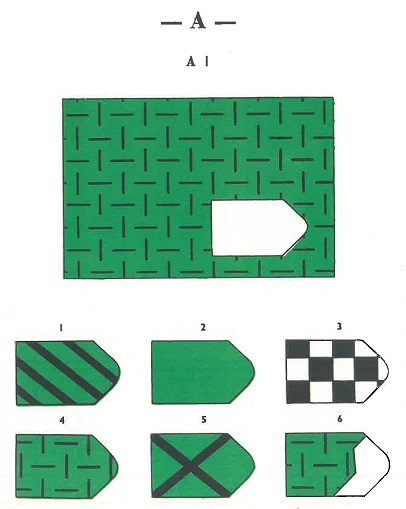Array 1: (11, 319, 125, 410)
Array 2: (147, 319, 258, 409)
Array 3: (277, 320, 394, 409)
Array 4: (10, 413, 126, 503)
Array 5: (146, 411, 260, 502)
Array 6: (277, 412, 396, 501)
Matrix: (54, 89, 343, 285)
Matrix Unknown: (209, 198, 309, 257)
